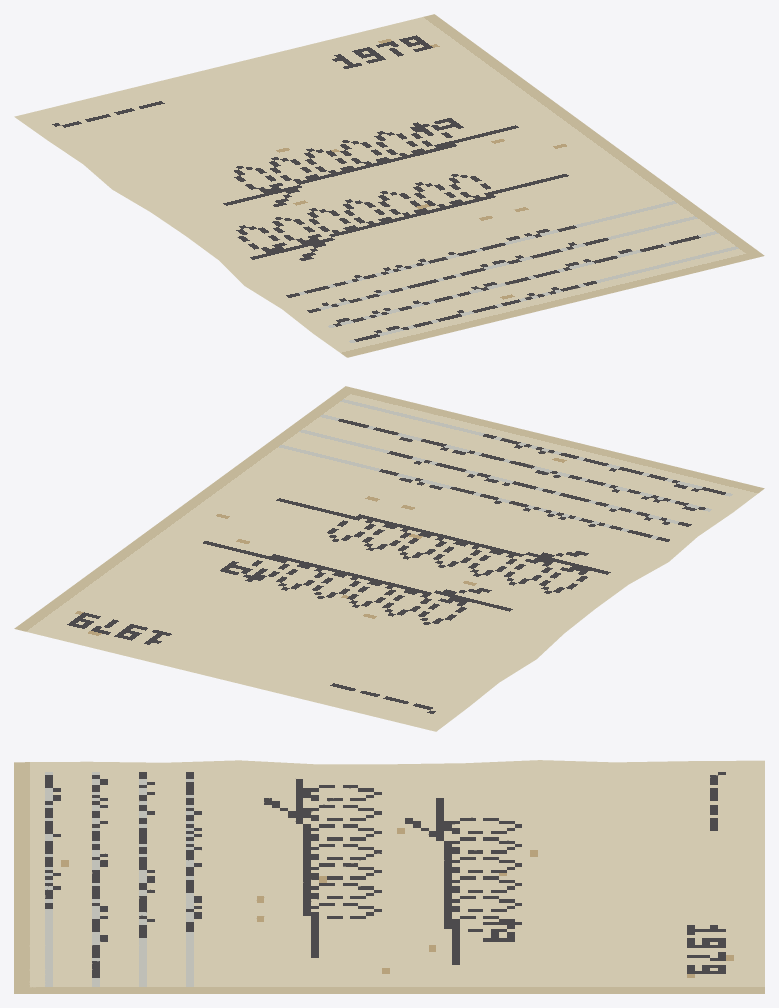
File: m_page_cockatoos.glb
3 renders of one model, top to bottom at view 1: azimuth 30°, elevation 25°; view 2: azimuth 150°, elevation 25°; view 3: azimuth 270°, elevation 25°, orthographic. The views are drawn at different scales.
Parts seen in each view (by area): view 1: Page_cockatoos; view 2: Page_cockatoos; view 3: Page_cockatoos.
Boxes of the visible parts, left/top/right/bottom form: Page_cockatoos: left=14, top=14, right=764, bottom=357; Page_cockatoos: left=14, top=386, right=764, bottom=731; Page_cockatoos: left=14, top=760, right=764, bottom=993.
Bounding box in the file's own units: 0.1474 × 0 × 0.2.
Materials: 1 (1 with a texture image).
